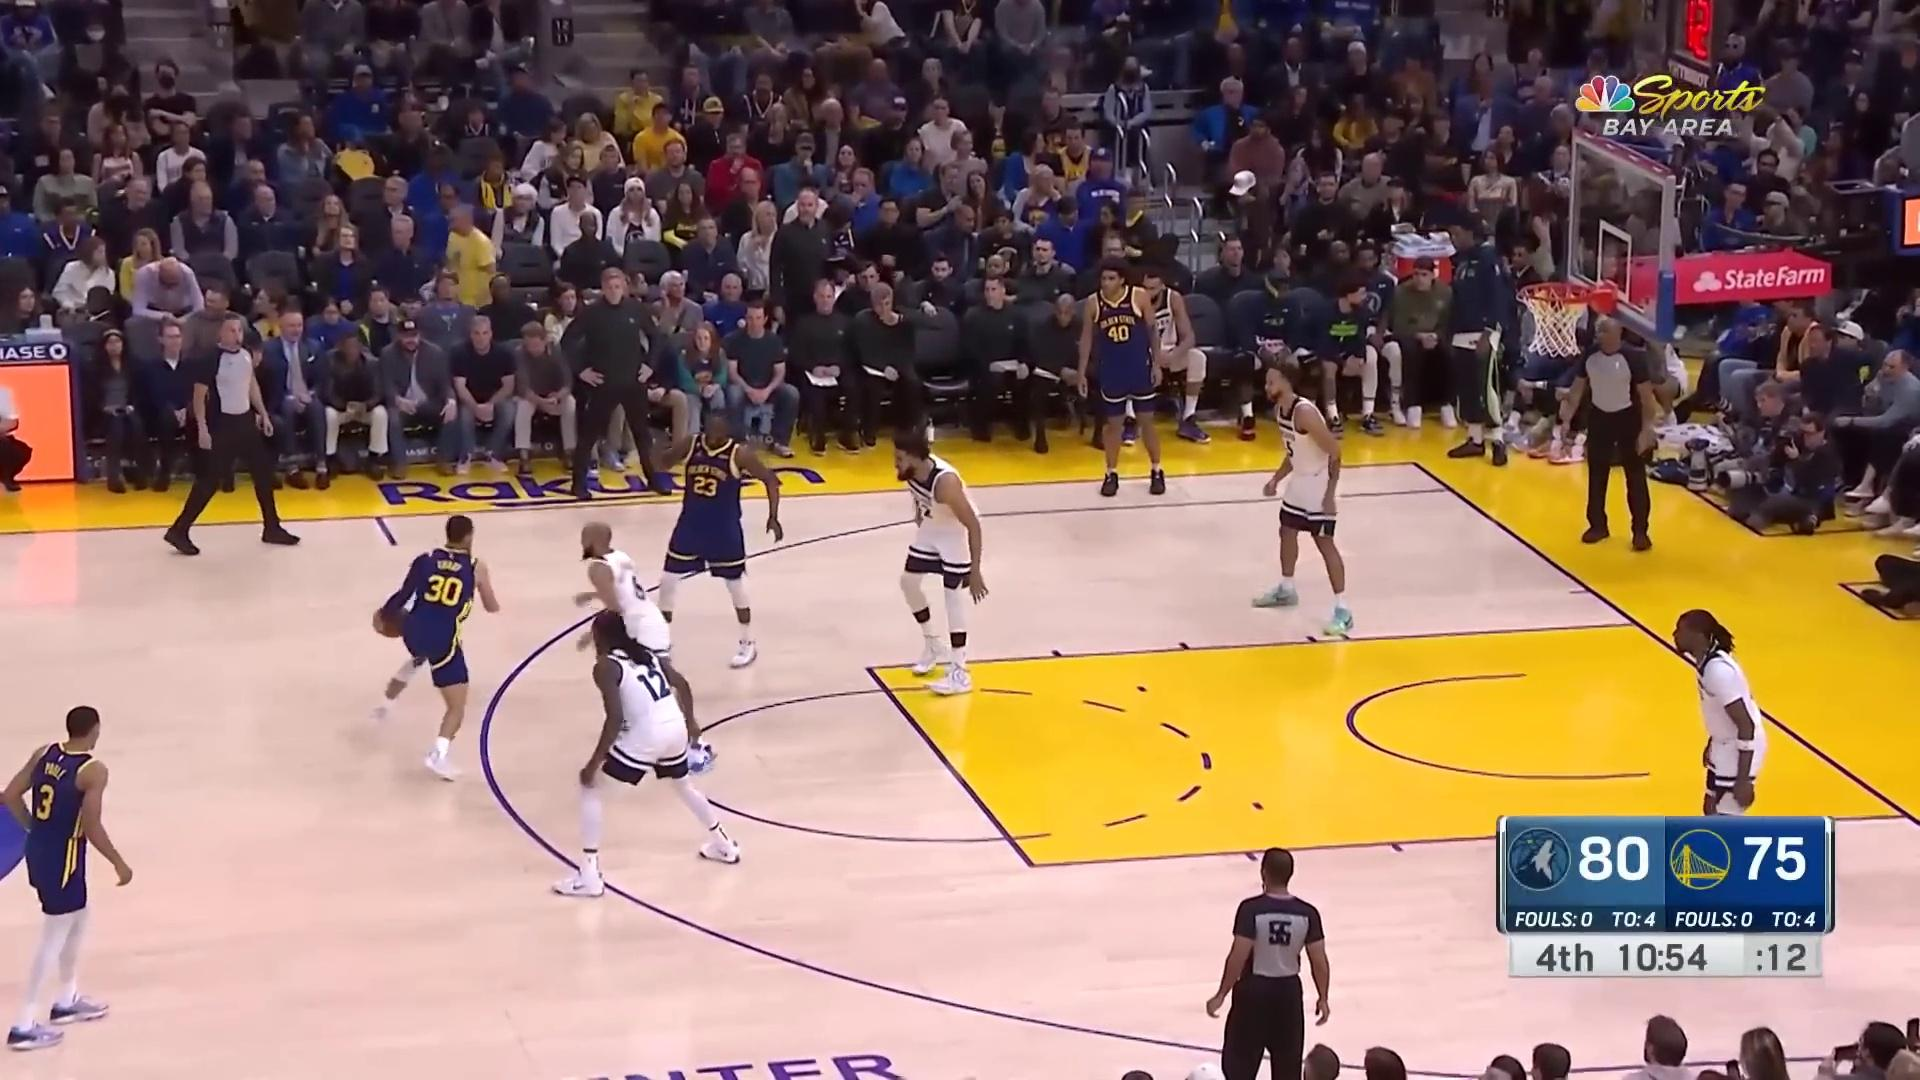Ball: (371, 589, 416, 643)
Player: (549, 603, 746, 898), (1, 711, 149, 1059), (356, 496, 499, 786), (661, 403, 789, 674), (1251, 361, 1364, 646), (1069, 264, 1191, 508), (1666, 611, 1773, 881), (891, 423, 996, 703)
Rim: (1509, 128, 1679, 388)
